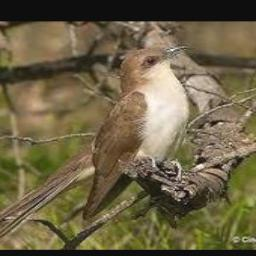Cuckoo: (80, 45, 194, 219)
